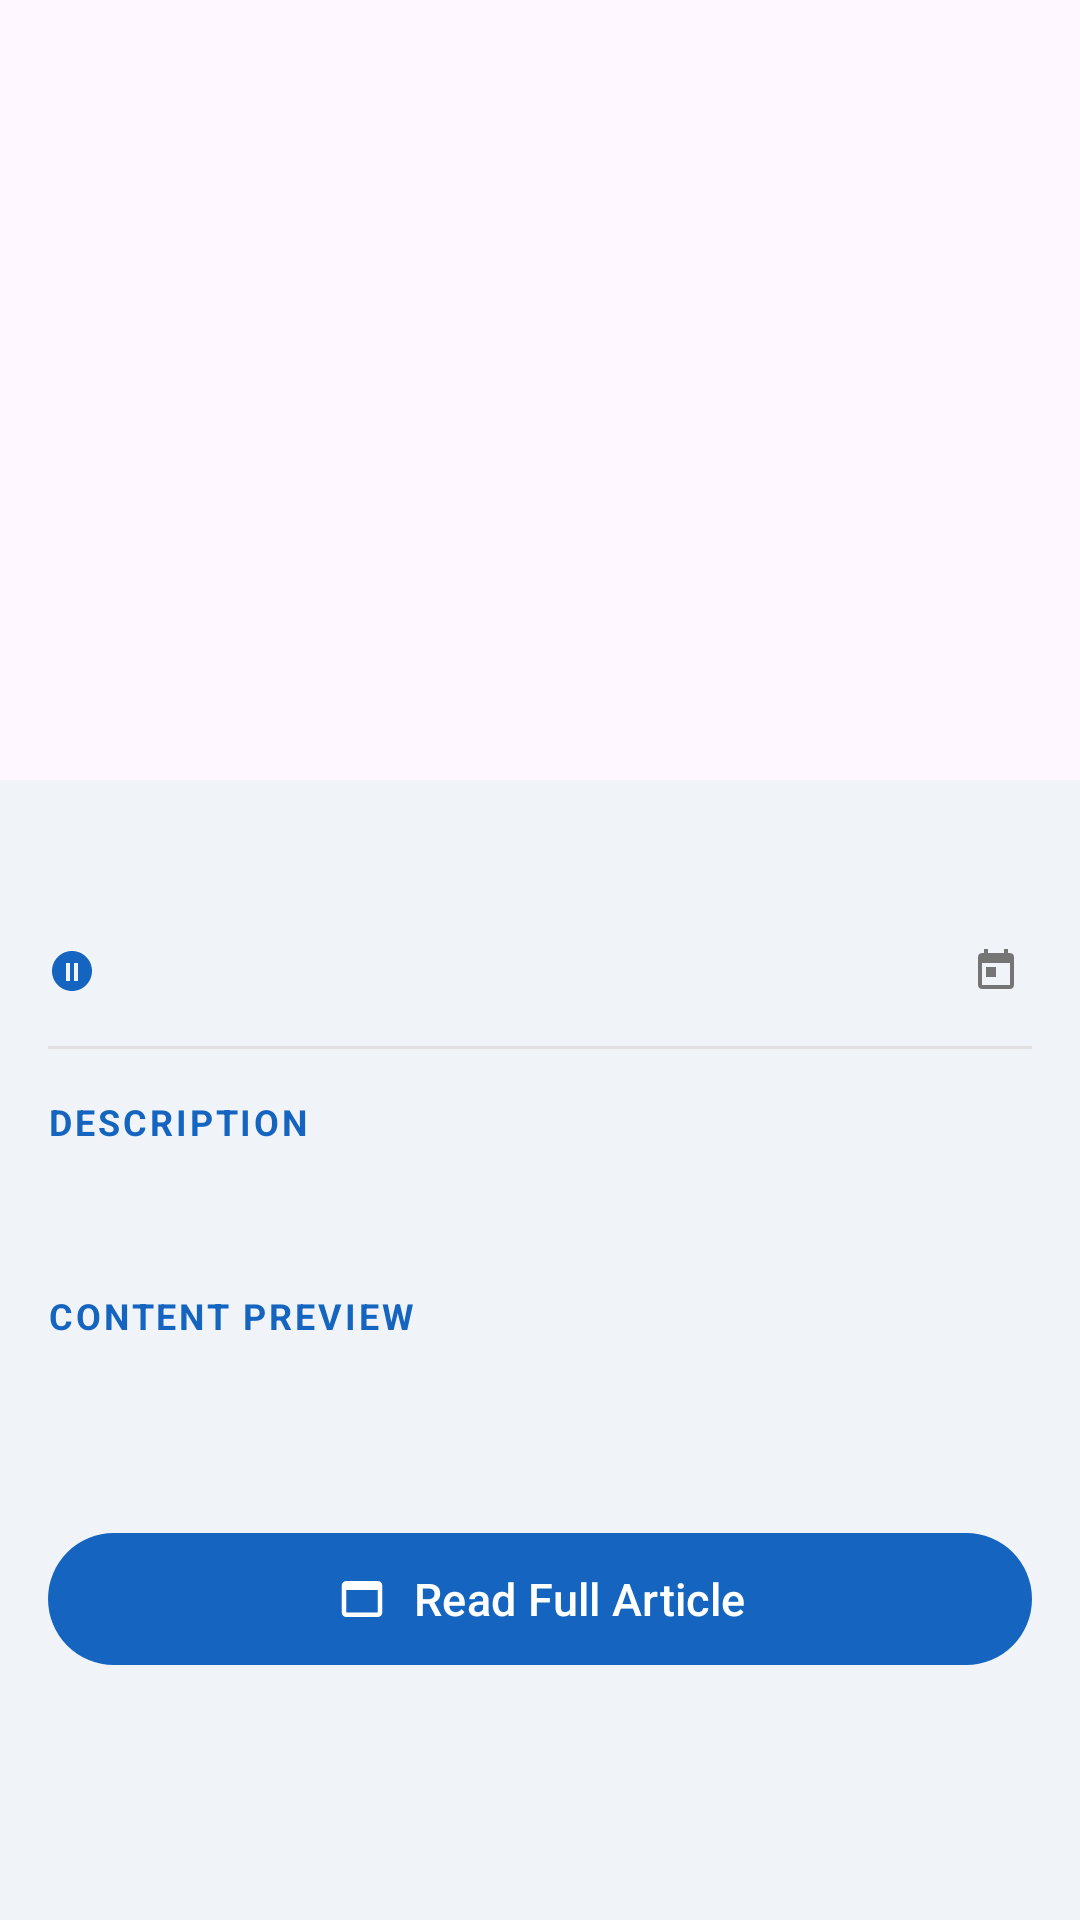

Screen size 1080*1920. Icon name, then its center in pixels as point (x, y):
calendar: point (996, 969)
